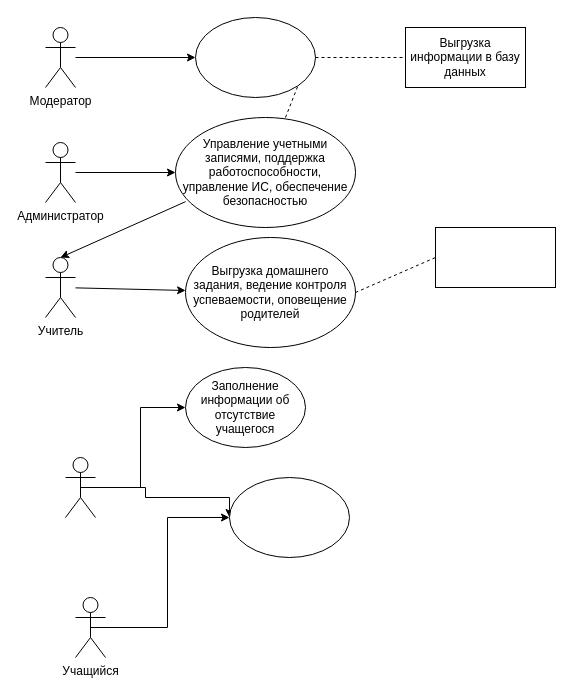
The diagram is 573 pixels wide and 696 high, and some of its shapes have lost their labels. Each missing label, with the centre of its shape:
Мониторинг действий пользователей на сайте: pixel 255 57
После получения нужной категории прав: pixel 495 257
Просмотр успеваемости, просмотр домашнего задания: pixel 289 517
Родитель: pixel 80 487
